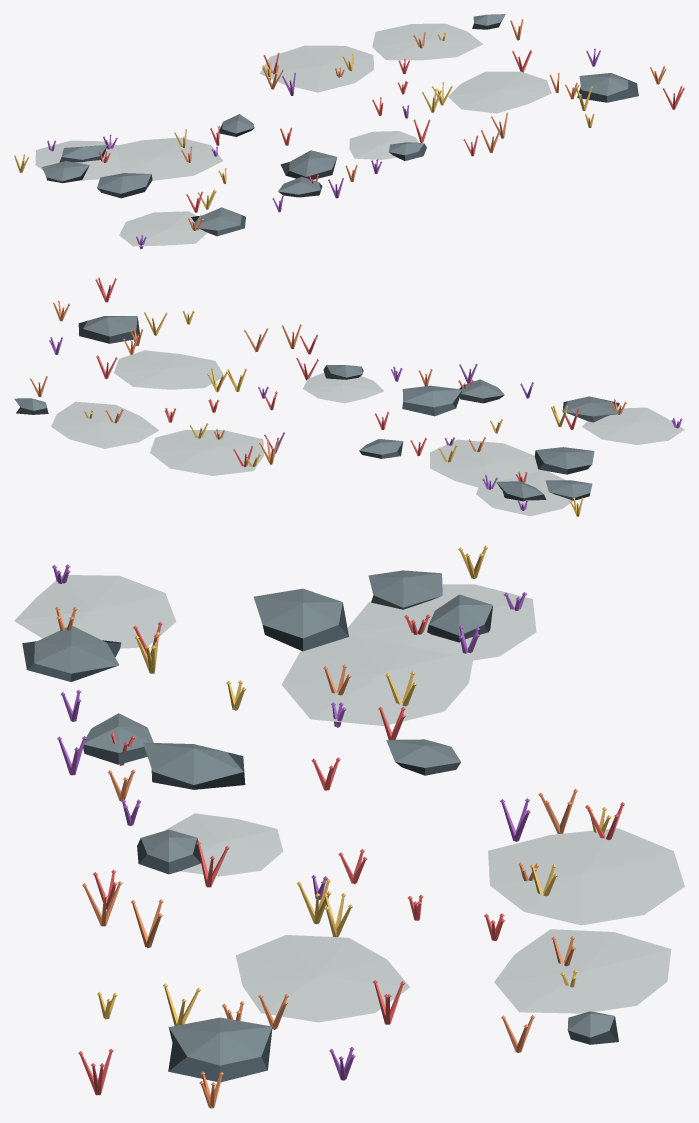
The model's file is W2_Mid_Reef.fbx.
3 renders of one model, top to bottom at view 1: azimuth 30°, elevation 25°; view 2: azimuth 150°, elevation 25°; view 3: azimuth 270°, elevation 25°, orthographic. The views are drawn at different scales.
Parts seen in each view (by area): view 1: W2_Mid_Reef; view 2: W2_Mid_Reef; view 3: W2_Mid_Reef.
Boxes of the visible parts, x1=… form: W2_Mid_Reef: x1=14, y1=14, x2=684, y2=248; W2_Mid_Reef: x1=14, y1=277, x2=684, y2=516; W2_Mid_Reef: x1=14, y1=545, x2=684, y2=1108.
Bounding box in the file's own units: 146 × 5.2 × 76.81.
